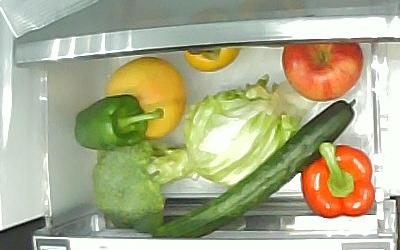apple: (282, 41, 363, 102)
broccoli: (91, 140, 198, 234)
cucumber: (150, 99, 358, 237)
grapefruit: (105, 57, 186, 141)
lettuce: (183, 74, 303, 185)
paprika: (301, 142, 375, 219), (74, 95, 165, 151)
persimmon: (182, 46, 242, 72)
